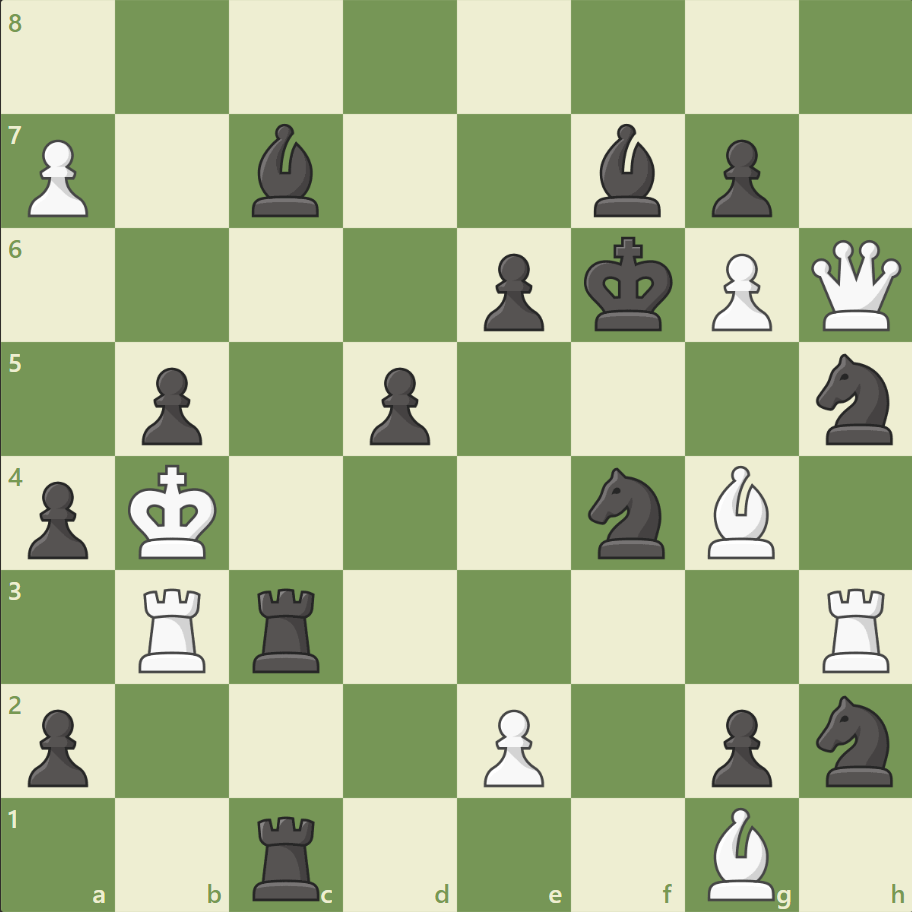B: (698, 460, 782, 563), (698, 801, 782, 904)
K: (124, 458, 224, 566)
P: (20, 132, 95, 223), (701, 246, 776, 337), (474, 700, 549, 791)
Q: (805, 236, 904, 335)
R: (814, 579, 897, 676), (133, 579, 215, 676)
b: (244, 120, 328, 222), (585, 120, 669, 222)
k: (579, 231, 679, 339)
n: (579, 461, 676, 564), (806, 688, 903, 791), (806, 348, 903, 450)
p: (701, 132, 776, 223), (474, 246, 549, 337), (133, 359, 208, 450), (20, 473, 95, 564), (20, 700, 95, 791), (701, 700, 776, 791), (361, 359, 435, 450)
r: (246, 806, 329, 904), (246, 579, 329, 676)
